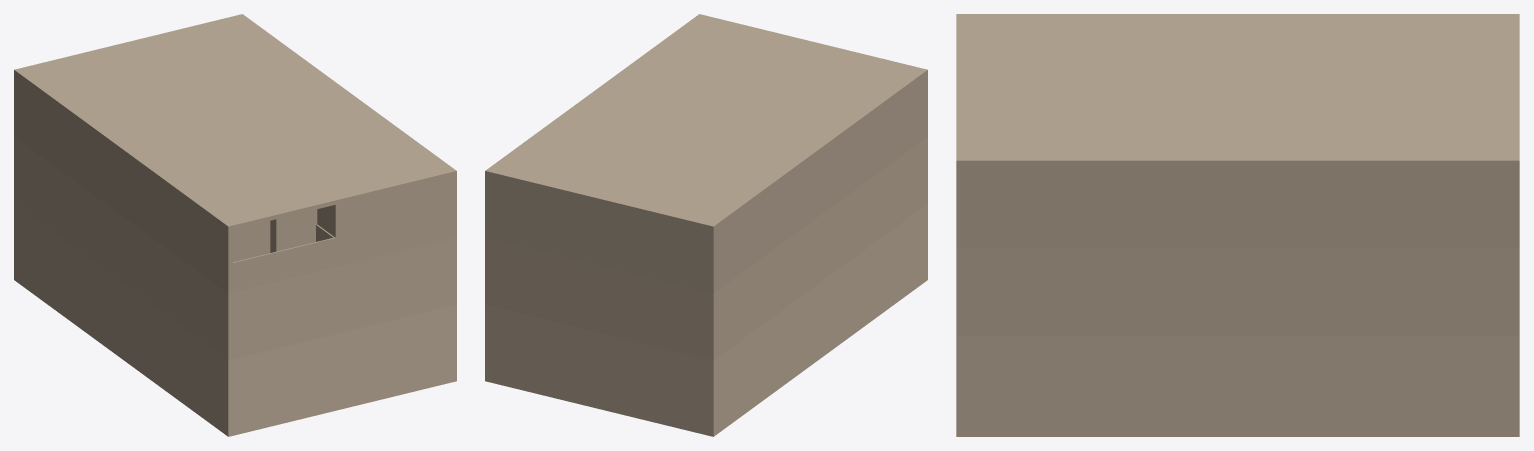
The model's file is massing.glb.
3 renders of one model, left to right at view 1: azimuth 30°, elevation 25°; view 2: azimuth 150°, elevation 25°; view 3: azimuth 270°, elevation 25°, orthographic. The views are drawn at different scales.
Parts seen in each view (by area): view 1: main/floor3/4/0, main/floor1/0/0, main/floor2/0/0, main/floor3/1/0, main/floor3/2/0, main/floor3/3/0, main/floor3/0/0; view 2: main/floor3/4/0, main/floor1/0/0, main/floor2/0/0, main/floor3/2/0, main/floor3/1/0, main/floor3/3/0, main/floor3/0/0; view 3: main/floor3/4/0, main/floor1/0/0, main/floor2/0/0, main/floor3/1/0, main/floor3/2/0, main/floor3/3/0, main/floor3/0/0.
Part boxes in pixels (x1,y1,x2,y2): main/floor3/4/0: (14,14,456,230); main/floor1/0/0: (14,204,456,436); main/floor2/0/0: (14,137,456,360); main/floor3/1/0: (14,107,456,288); main/floor3/2/0: (14,82,456,263); main/floor3/3/0: (14,74,456,238); main/floor3/0/0: (14,132,456,293); main/floor3/4/0: (485,14,927,230); main/floor1/0/0: (485,204,927,436); main/floor2/0/0: (485,137,927,360); main/floor3/2/0: (485,82,927,263); main/floor3/1/0: (485,107,927,288); main/floor3/3/0: (485,74,927,238); main/floor3/0/0: (485,132,927,293); main/floor3/4/0: (956,14,1519,165); main/floor1/0/0: (956,336,1519,436); main/floor2/0/0: (956,248,1519,336); main/floor3/1/0: (956,210,1519,242); main/floor3/2/0: (956,177,1519,209); main/floor3/3/0: (956,166,1519,176); main/floor3/0/0: (956,242,1519,248).
Size of the model in its own units: 10 by 8.8 by 16.25.
